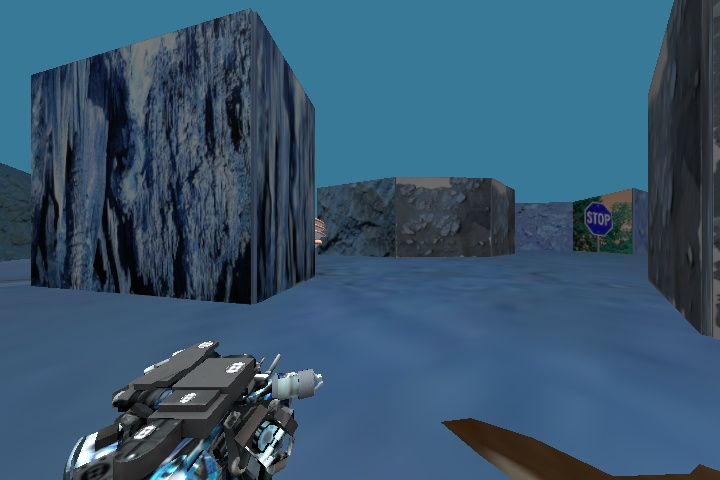stop_sign: (577, 196, 617, 240)
